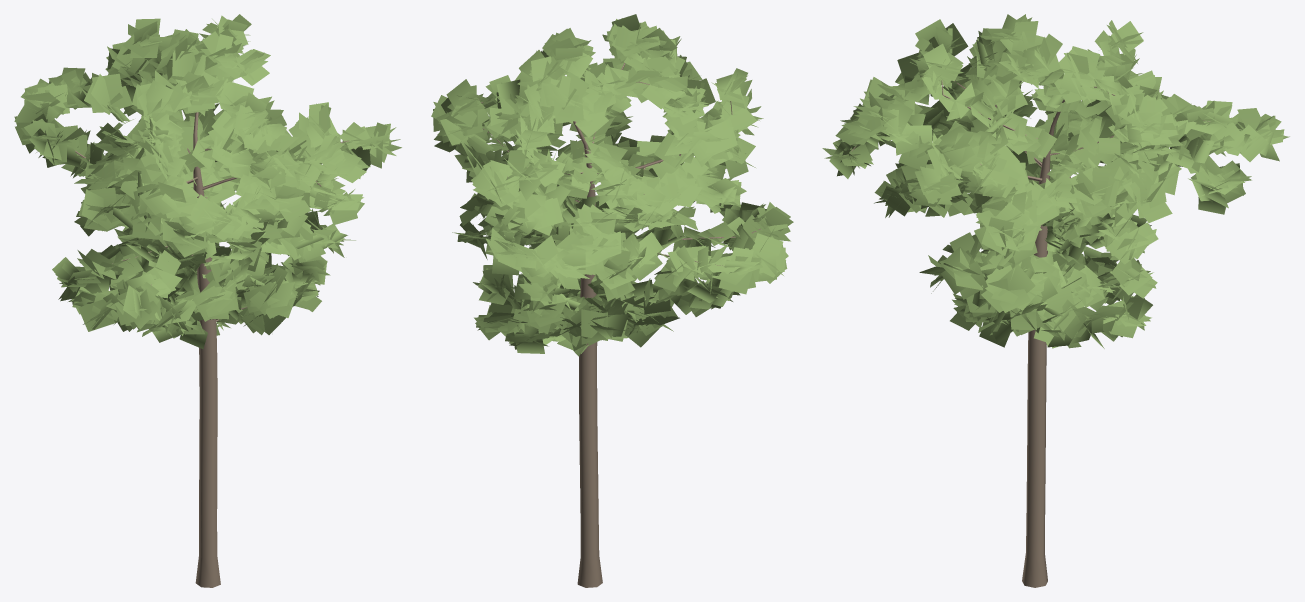
Rendered from Pine_1_lod1.glb.
3 renders of one model, left to right at view 1: azimuth 30°, elevation 25°; view 2: azimuth 150°, elevation 25°; view 3: azimuth 270°, elevation 25°, orthographic. The views are drawn at different scales.
Visible parts, largest first — view 1: Pine_1_lod1; view 2: Pine_1_lod1; view 3: Pine_1_lod1.
Boxes of the visible parts, x1,y1,x2,y2 form: Pine_1_lod1: (14,14,401,587); Pine_1_lod1: (431,14,793,587); Pine_1_lod1: (822,14,1289,587).
Size of the model in its own units: 12.4 by 19.12 by 14.67.
